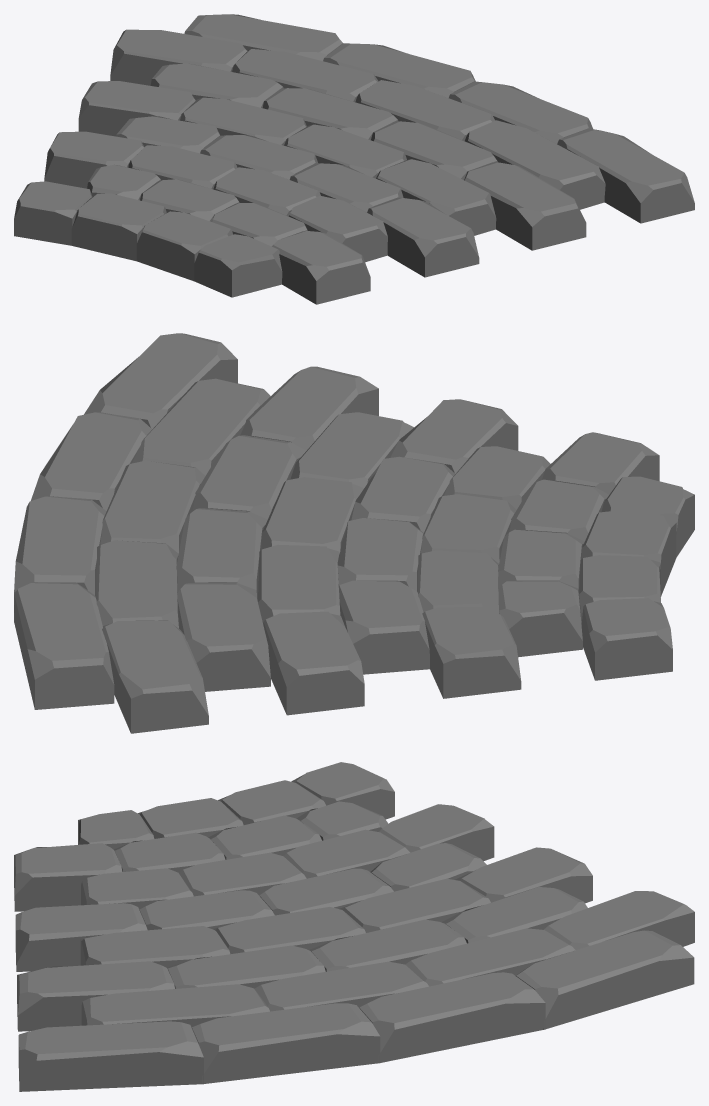
The model's file is Garden Walkway Turn.fbx.
The picture shows the model from 3 angles, top to bottom: view 1: azimuth 30°, elevation 25°; view 2: azimuth 150°, elevation 25°; view 3: azimuth 270°, elevation 25°; orthographic projection. The views are drawn at different scales.
Parts seen in each view (by area): view 1: Garden Walkway Turn; view 2: Garden Walkway Turn; view 3: Garden Walkway Turn.
Part boxes in pixels (x1=…): Garden Walkway Turn: x1=14, y1=14, x2=694, y2=304; Garden Walkway Turn: x1=14, y1=333, x2=694, y2=733; Garden Walkway Turn: x1=14, y1=762, x2=694, y2=1091.
Size of the model in its own units: 251 by 244 by 14.38.
